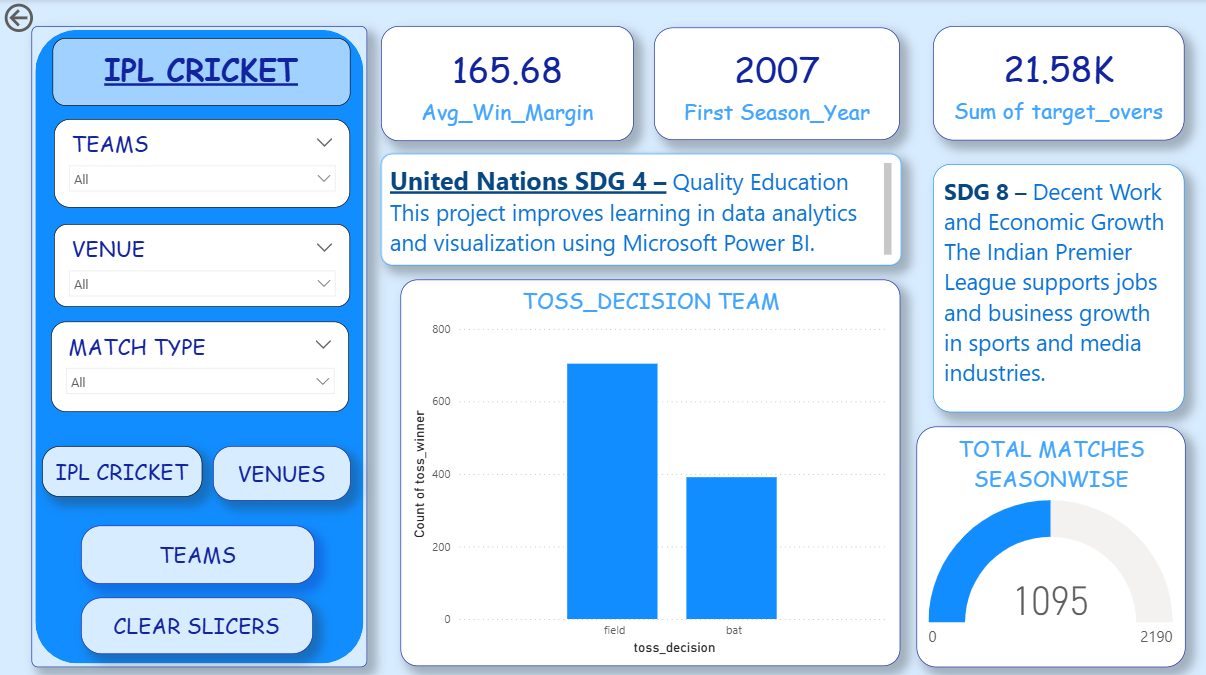

This screenshot's page, from the dashboard's own definition file:
{"tool":"powerbi","page":{"name":"TEAMS","canvas":[1280,720],"ordinal":2},"visuals":[{"type":"shape","box":[34,28,356,680],"z":0},{"type":"textbox","box":[56,42,316,72],"z":1000},{"type":"slicer","fields":{"Values":["matches.team1"]},"box":[58,128,314,94],"z":2000},{"type":"slicer","fields":{"Values":["matches.venue"]},"box":[58,238,314,88],"z":3000},{"type":"slicer","fields":{"Values":["matches.match_type"]},"box":[54,342,316,96],"z":4000},{"type":"card","fields":{"Values":["matches.Avg_Win_Margin"]},"box":[404,28,268,122],"z":5000},{"type":"card","fields":{"Values":["Min(matches.Season_Year)"]},"box":[693.1,29.9,260.9,119.5],"z":6000},{"type":"card","fields":{"Values":["Sum(matches.target_overs)"]},"box":[989.9,27.9,266.9,121.5],"z":7000},{"type":"lineStackedColumnComboChart","title":"TOSS_DECISION TEAM","fields":{"Category":["matches.toss_decision"],"Y":["CountNonNull(matches.toss_winner)"]},"box":[424,298,530,410],"z":8000},{"type":"gauge","title":"TOTAL MATCHES SEASONWISE","fields":{"Y":["matches.Total_Matches"]},"box":[971.7,453.3,285,255],"z":9000},{"type":"actionButton","title":"IPL OVERVIEW","box":[44,474,170,54],"z":10000},{"type":"actionButton","box":[226,474,146,58],"z":11000},{"type":"actionButton","box":[86,558,248,62],"z":12000},{"type":"actionButton","box":[86,634,246,60],"z":13000},{"type":"actionButton","box":[0,0,100,40],"z":14000},{"type":"textbox","box":[403.3,163.3,551.7,118.3],"z":14001},{"type":"textbox","box":[990,175,266.7,263.3],"z":14002}]}

Visuals, with their boxes on the page's 1280x720 design canvas (x1, y1, x2, y2). These are canvas units, not pixel positions in the 1206x675 screenshot, which may show the page scaled, cropped or inside an application window:
shape: select_region(34, 28, 390, 708)
textbox: select_region(56, 42, 372, 114)
slicer - matches.team1: select_region(58, 128, 372, 222)
slicer - matches.venue: select_region(58, 238, 372, 326)
slicer - matches.match_type: select_region(54, 342, 370, 438)
card - matches.Avg_Win_Margin: select_region(404, 28, 672, 150)
card - Min(matches.Season_Year): select_region(693, 30, 954, 149)
card - Sum(matches.target_overs): select_region(990, 28, 1257, 149)
"TOSS_DECISION TEAM" lineStackedColumnComboChart: select_region(424, 298, 954, 708)
"TOTAL MATCHES SEASONWISE" gauge: select_region(972, 453, 1257, 708)
"IPL OVERVIEW" actionButton: select_region(44, 474, 214, 528)
actionButton: select_region(226, 474, 372, 532)
actionButton: select_region(86, 558, 334, 620)
actionButton: select_region(86, 634, 332, 694)
actionButton: select_region(0, 0, 100, 40)
textbox: select_region(403, 163, 955, 282)
textbox: select_region(990, 175, 1257, 438)
